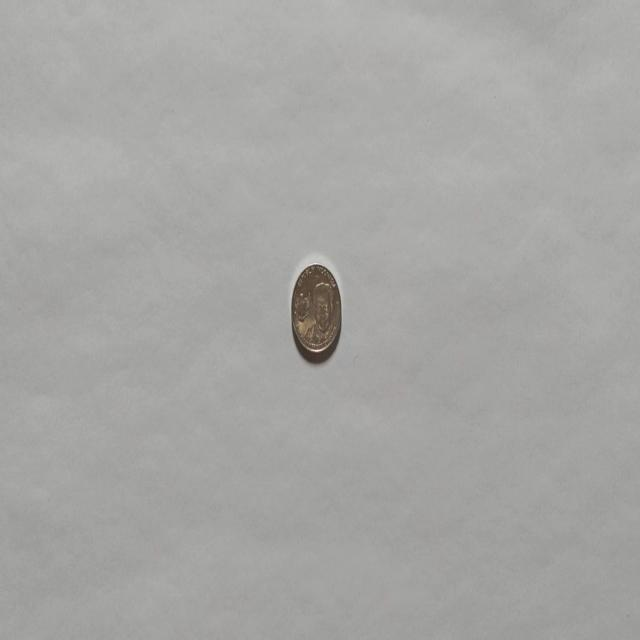seratus rupiah: (290, 262, 342, 356)
